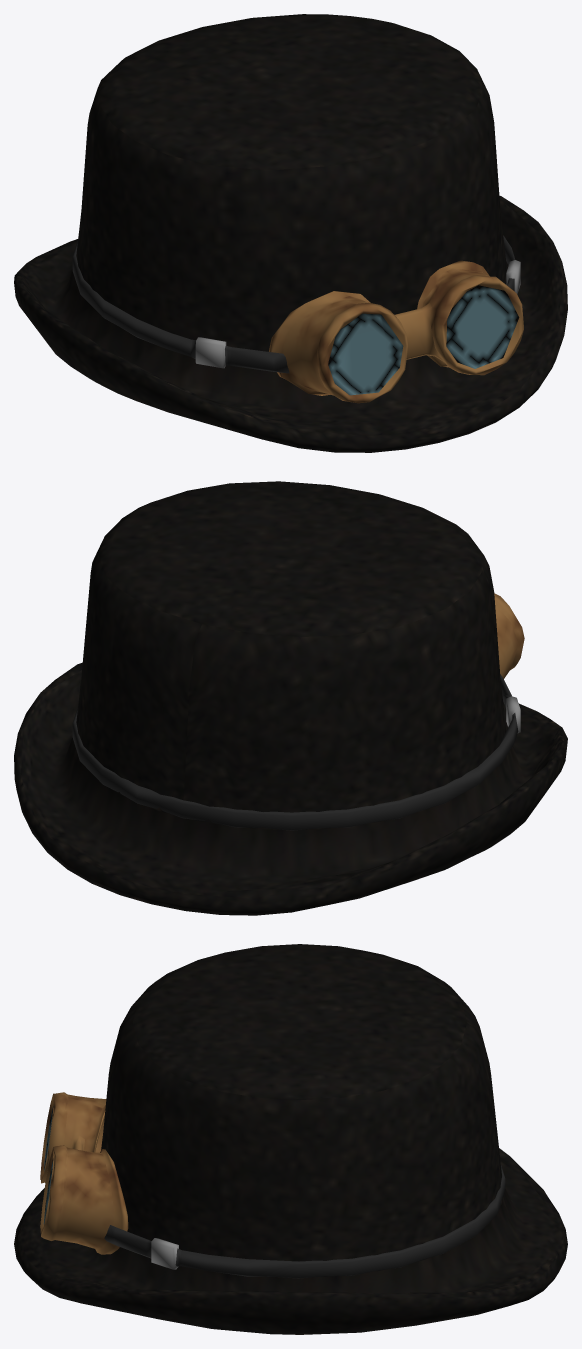
File: bowlerhat.glb
The picture shows the model from 3 angles, top to bottom: view 1: azimuth 30°, elevation 25°; view 2: azimuth 150°, elevation 25°; view 3: azimuth 270°, elevation 25°; orthographic projection. The views are drawn at different scales.
Visible parts, largest first — view 1: Object_4; view 2: Object_4; view 3: Object_4.
Part boxes in pixels (x1=…): Object_4: x1=14, y1=14, x2=567, y2=452; Object_4: x1=14, y1=481, x2=567, y2=915; Object_4: x1=14, y1=944, x2=567, y2=1334.
Size of the model in its own units: 0.4134 by 0.2137 by 0.4491.
Materials: 1 (1 with a texture image).
